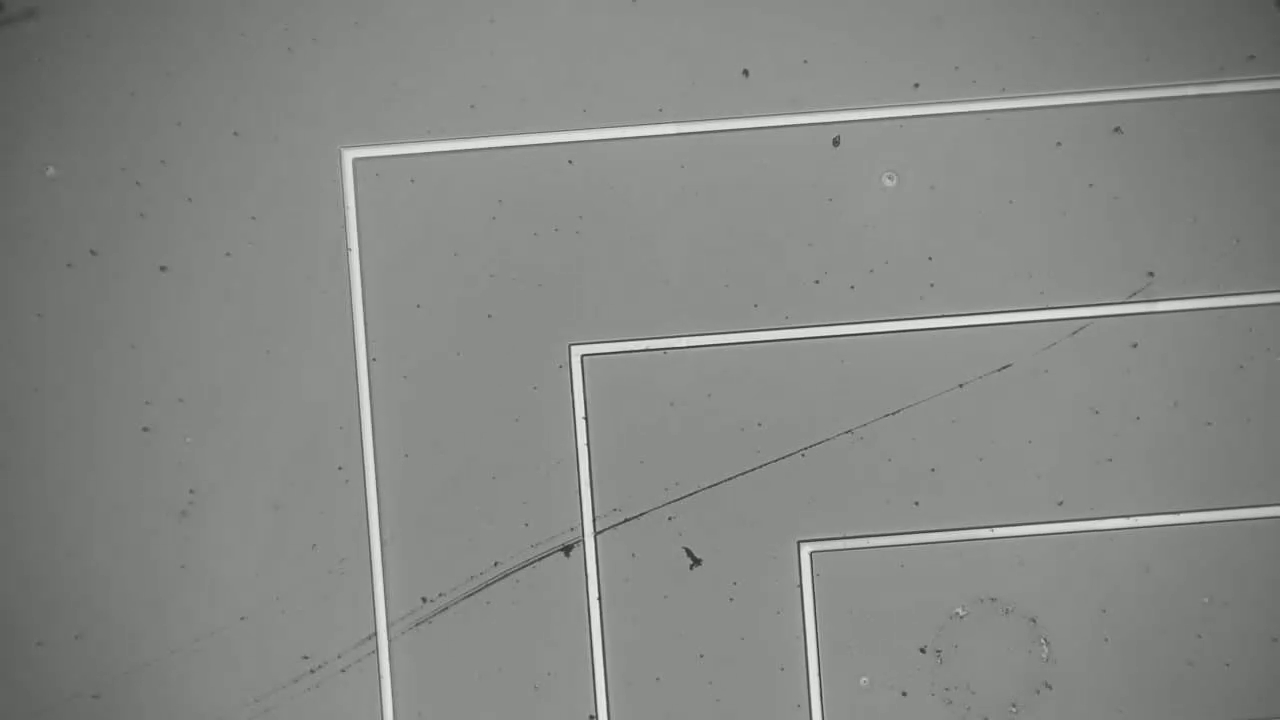scratch: (304, 256, 1152, 684)
